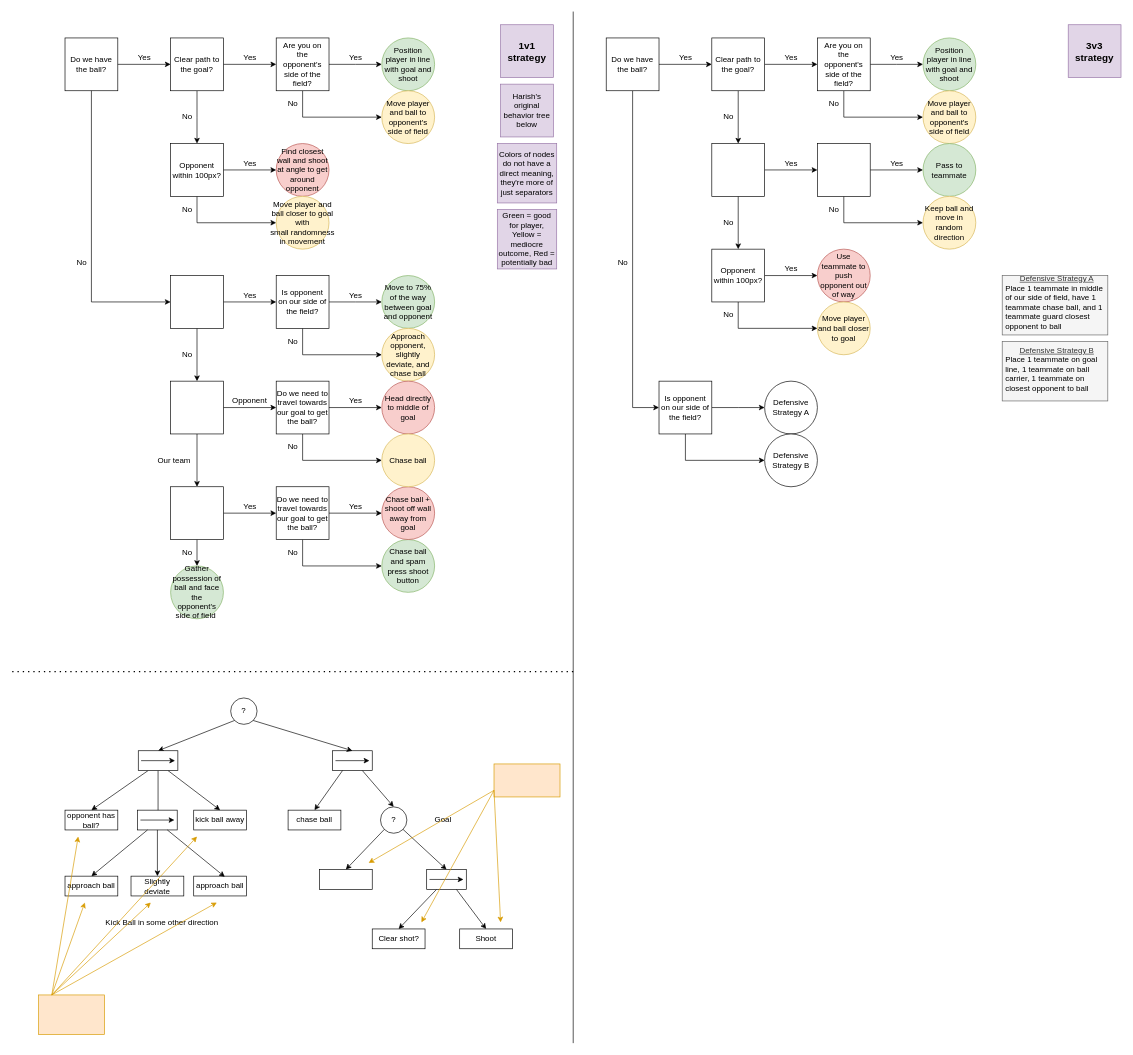
This 1133x1055 diagram has some shape labels left out. The centre of each missing label's shape, as x and y in pixels:
Covered in "clear path to goal?" nodes above: the point at 526,780
Covered in "is opponent on our side of the field?" nodes above: the point at 71,1014
Does opponent have ball?: the point at 196,301
Is there a teammate closer to the goal than the player with the ball?: the point at 843,169
Opponent within 200px of us?: the point at 196,513
take ball to goal: the point at 345,879
Unobstructed teammate?: the point at 738,169
Who is closer to the ball?: the point at 196,407
